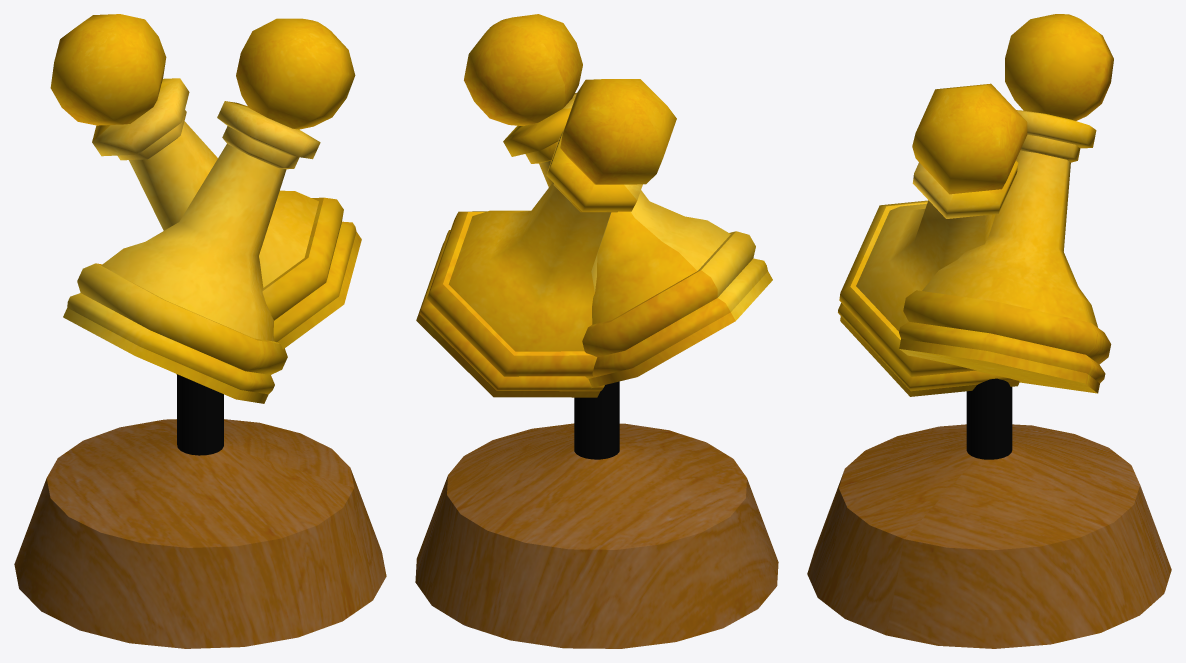
File: Statue.fbx
3 renders of one model, left to right at view 1: azimuth 30°, elevation 25°; view 2: azimuth 150°, elevation 25°; view 3: azimuth 270°, elevation 25°, orthographic. The views are drawn at different scales.
Visible parts, largest first — view 1: pCylinder3, Peon2, Peon1; view 2: pCylinder3, Peon1, Peon2; view 3: pCylinder3, Peon1, Peon2.
Part boxes in pixels (x1,y1,x2,y2): pCylinder3: (14,374,386,648); Peon2: (63,18,355,403); Peon1: (50,14,361,374); pCylinder3: (415,381,778,648); Peon1: (416,79,676,397); Peon2: (464,14,772,388); pCylinder3: (807,378,1171,648); Peon1: (899,14,1113,393); Peon2: (838,83,1027,396).
Bounding box in the file's own units: 20.21 × 32.27 × 20.21.
